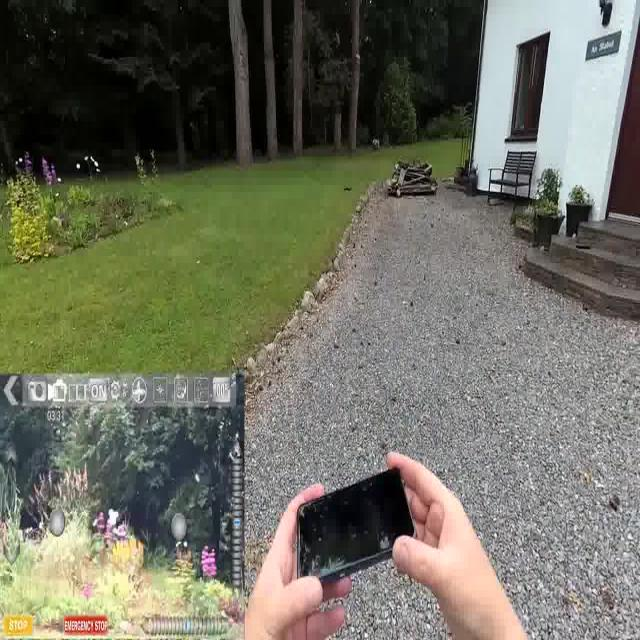drones: (339, 175, 358, 205)
